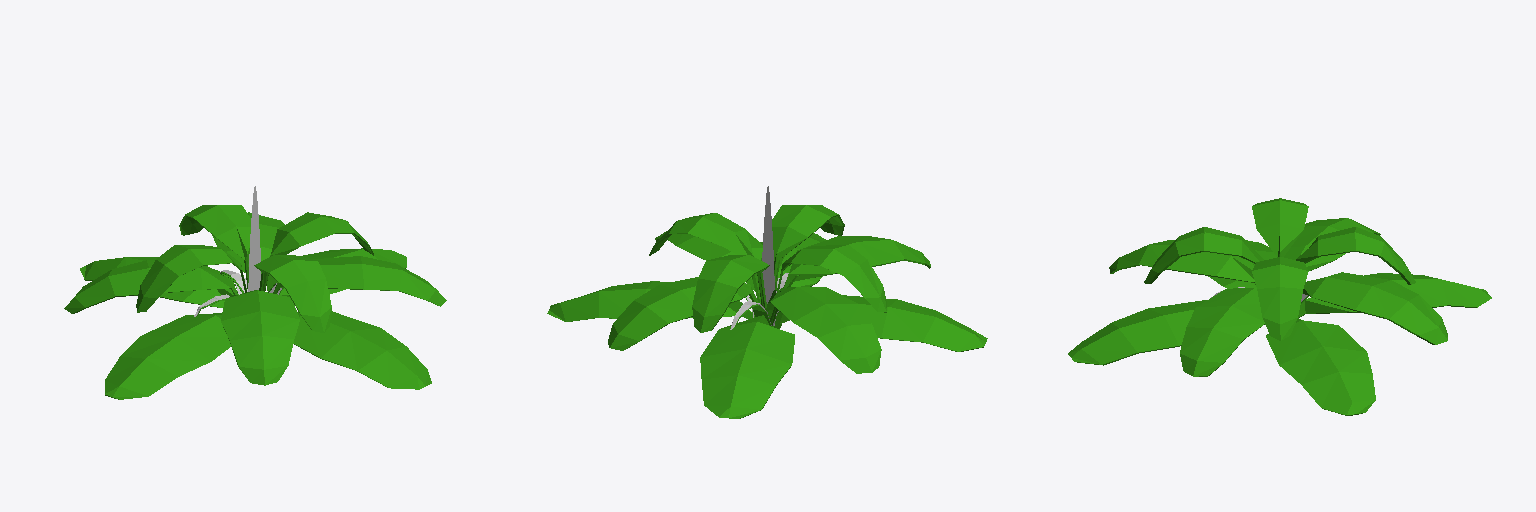
File: plants_model0.obj
The picture shows the model from 3 angles: view 1: azimuth 30°, elevation 25°; view 2: azimuth 150°, elevation 25°; view 3: azimuth 270°, elevation 25°; orthographic projection.
Visible parts, largest first — view 1: Plane_Plane.005, Plane.001; view 2: Plane_Plane.005, Plane.001; view 3: Plane_Plane.005.
Part boxes in pixels (x1,y1,x2,y2): Plane_Plane.005: (64,205,446,399); Plane.001: (248,186,260,291); Plane_Plane.005: (547,205,987,418); Plane.001: (762,186,774,325); Plane_Plane.005: (1068,198,1491,415).
Bounding box in the file's own units: 9.06 × 3.41 × 9.07.